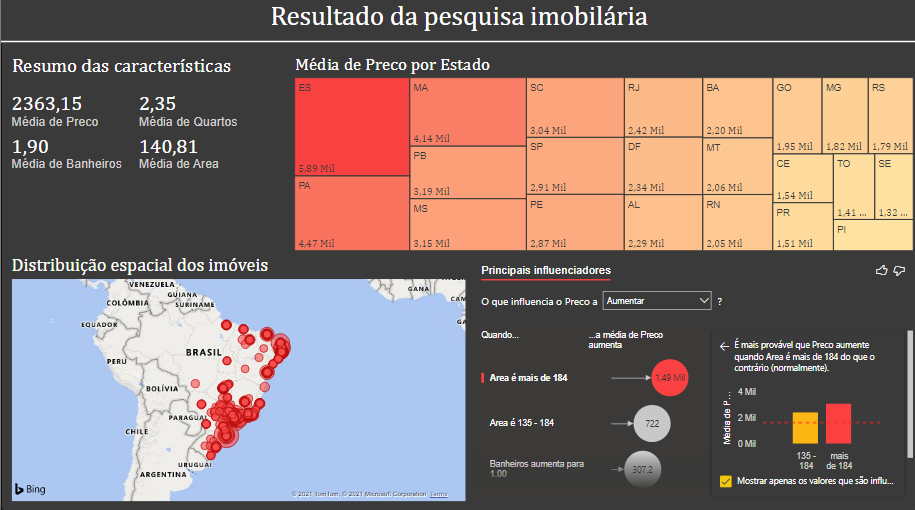

The page's visual inventory and layout, read from the dashboard file:
{"tool":"powerbi","page":{"name":"Página 1","canvas":[1280,720],"ordinal":0},"visuals":[{"type":"treemap","fields":{"Values":["Avg(imoveis.Preco)"],"Group":["imoveis.Estado"]},"box":[405.4,81.1,875.2,279.6],"z":0},{"type":"map","title":"Distribuição espacial dos imóveis","fields":{"Size":["Avg(imoveis.Preco)"],"Y":["Min(imoveis.lat)"],"X":["Min(imoveis.long)"],"Category":["imoveis.Endereco"]},"box":[9.8,360.7,644.5,350.9],"z":1},{"type":"keyDriversVisual","title":"Principais Influcenciadores","fields":{"Target":["imoveis.Preco"],"ExplainBy":["Sum(imoveis.Area)","Sum(imoveis.Banheiros)"]},"box":[654.3,360.7,626.3,350.9],"z":3},{"type":"multiRowCard","title":"Resumo das características","fields":{"Values":["Avg(imoveis.Preco)","Avg(imoveis.Quartos)","Avg(imoveis.Banheiros)","Avg(imoveis.Area)"]},"box":[9.8,81.1,366.3,262.8],"z":4},{"type":"textbox","box":[0,0,1280.6,65.7],"z":5},{"type":"shape","box":[0,53.1,1280.6,12.6],"z":6}]}

Visuals, with their boxes in screenshot pixels (x1, y1, x2, y2), scaled from the page's 1280x720 canvas onto the 915x510 screenshot:
treemap - Avg(imoveis.Preco) x imoveis.Estado: 290:57:914:255
"Distribuição espacial dos imóveis" map: 7:255:468:504
"Principais Influcenciadores" keyDriversVisual: 468:255:914:504
"Resumo das características" multiRowCard: 7:57:269:244
textbox: 0:0:914:47
shape: 0:38:914:47
